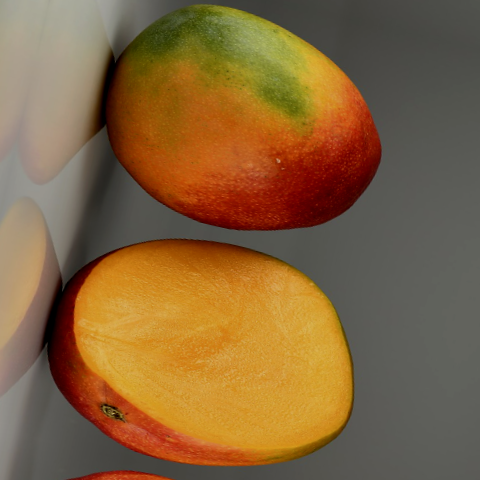mango: (0, 197, 398, 480), (52, 0, 412, 265)
